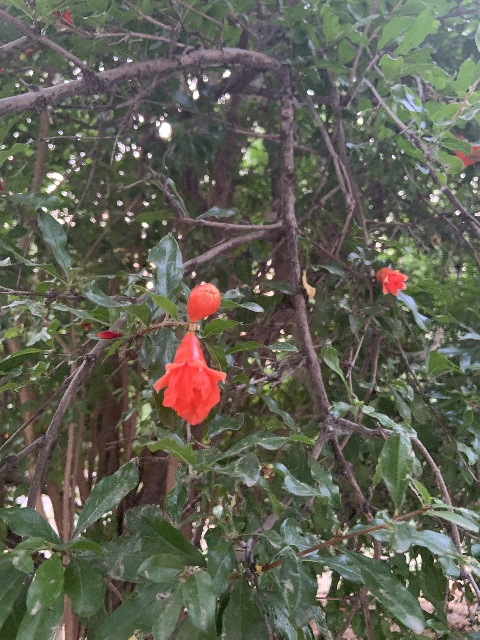bud: (186, 282, 220, 321)
flower: (153, 331, 226, 424), (376, 267, 408, 296)
